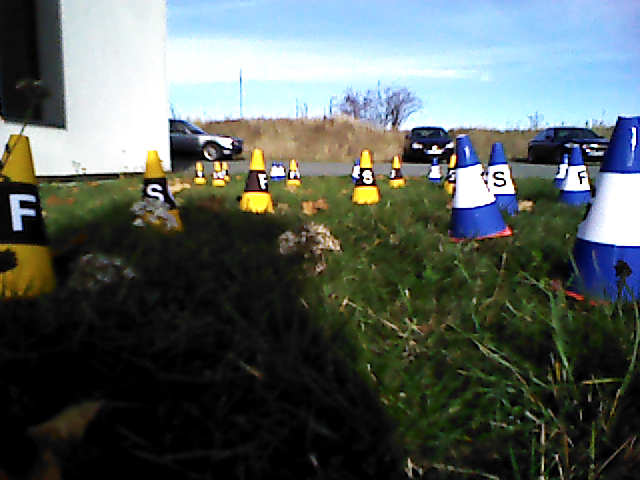bluecone: (573, 116, 640, 299), (452, 135, 505, 233), (561, 144, 593, 205), (492, 143, 518, 212), (554, 155, 570, 187)
yellowcone: (1, 133, 57, 295), (138, 149, 182, 231), (238, 150, 275, 213), (352, 150, 381, 205), (389, 156, 407, 187)
